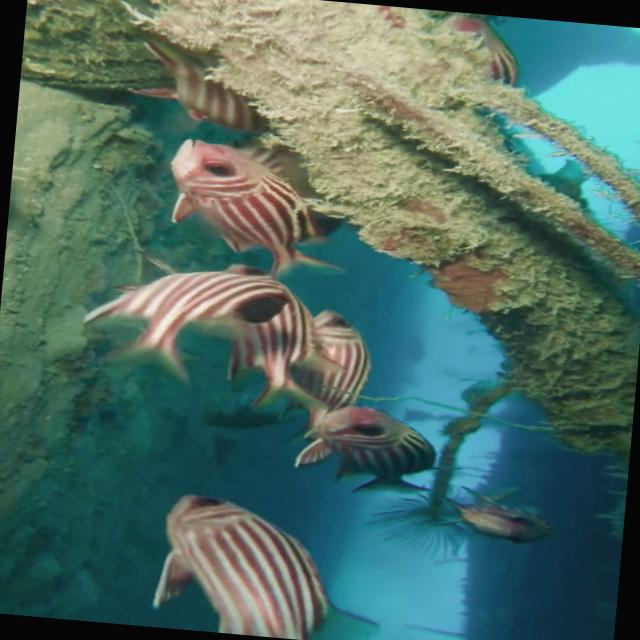Asker Baligi: (149, 488, 393, 640), (146, 134, 340, 277), (284, 396, 472, 500)
